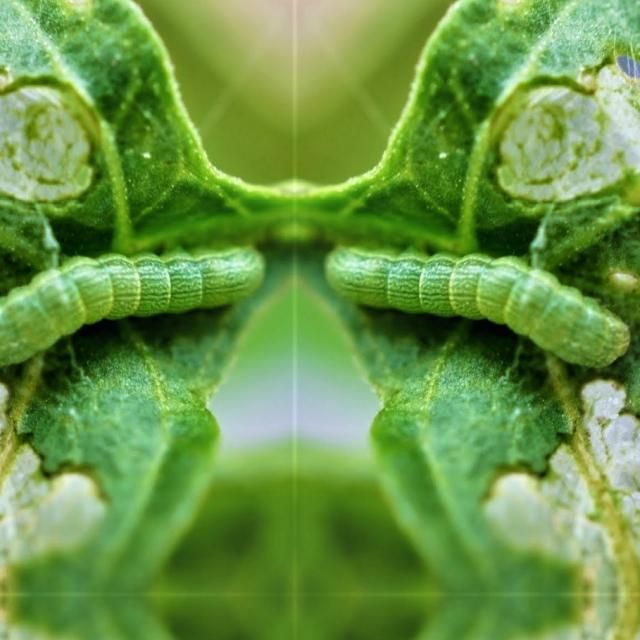armyworm: (322, 242, 631, 369), (0, 243, 266, 368)
